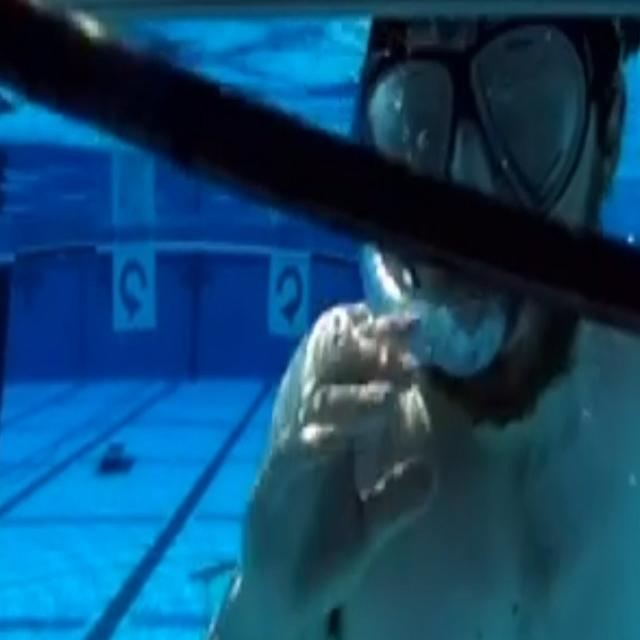Gate: (0, 213, 357, 414)
